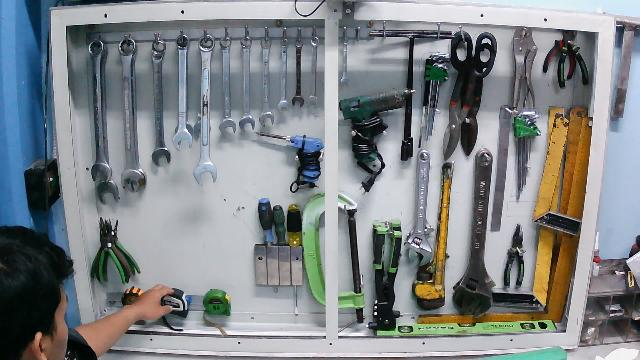meteran: (155, 278, 194, 331)
